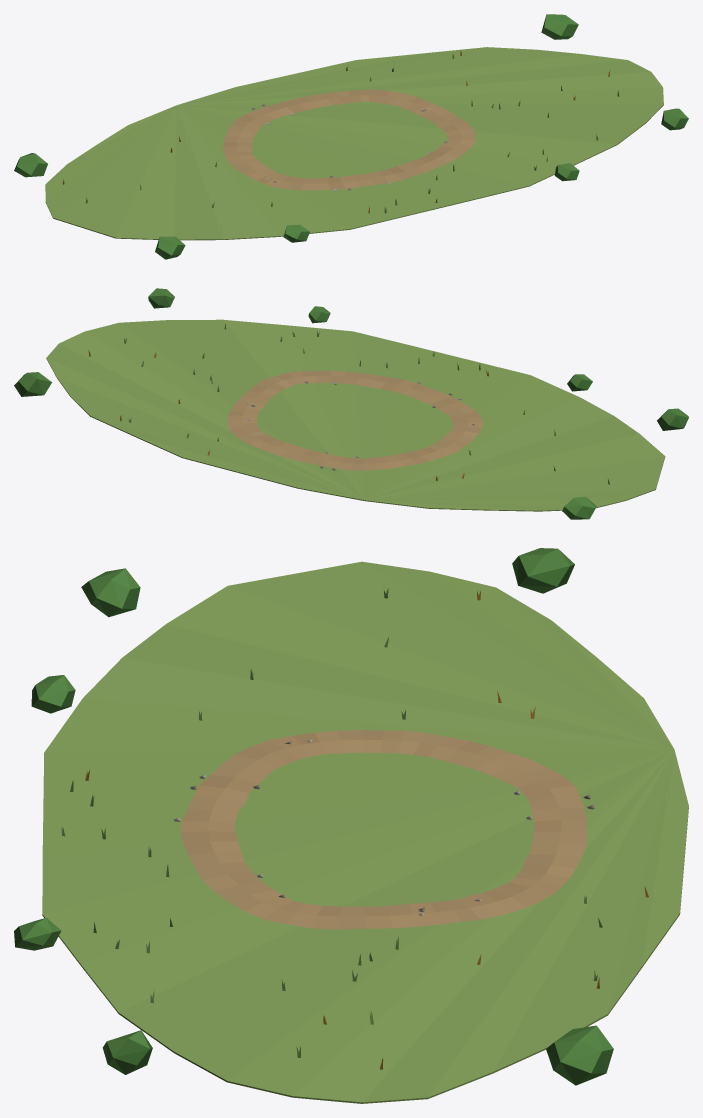
Rendered from harvestbase.glb.
3 views of the same model, one above another, from view 1: azimuth 30°, elevation 25°; view 2: azimuth 150°, elevation 25°; view 3: azimuth 270°, elevation 25° (orthographic). The views are drawn at different scales.
Parts seen in each view (by area): view 1: base; view 2: base; view 3: base.
Part boxes in pixels (<box>): base: <box>14,14,688,259</box>; base: <box>14,288,688,519</box>; base: <box>14,548,688,1103</box>.
Bounding box in the file's own units: 7.66 × 0.302 × 4.04.
